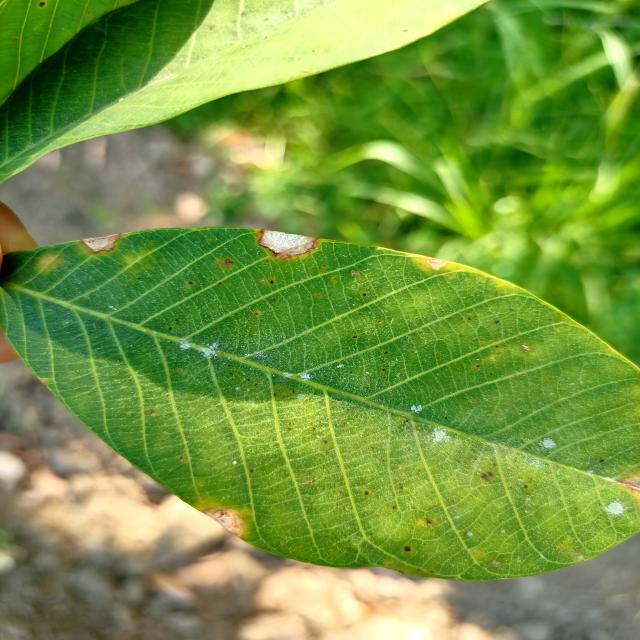Colletotrichum: (364, 490, 370, 496), (599, 458, 605, 464), (404, 546, 411, 551), (269, 280, 274, 285), (248, 468, 254, 472), (362, 293, 367, 297), (523, 484, 528, 488), (188, 281, 193, 285), (468, 317, 472, 321), (476, 364, 480, 368), (254, 312, 259, 315), (384, 351, 388, 354), (382, 368, 385, 372), (352, 336, 357, 338), (169, 327, 172, 330), (219, 282, 221, 284)
Leaf-Blight: (261, 230, 315, 256), (201, 508, 243, 537), (82, 234, 120, 252)
